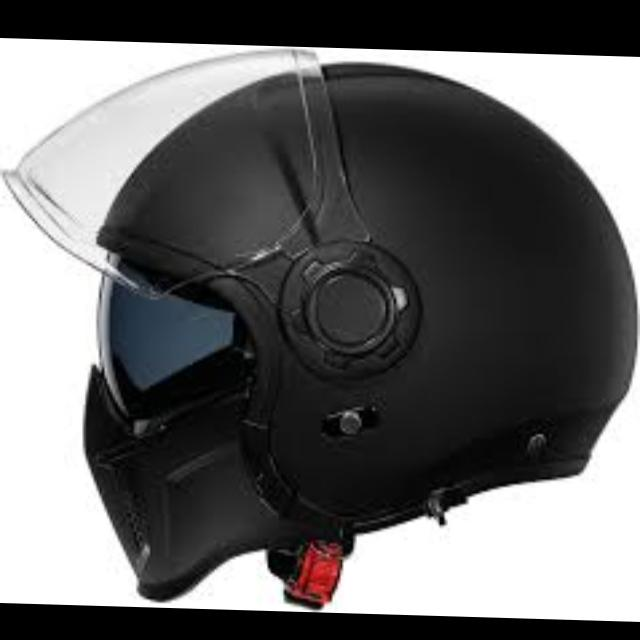motorcycle-helmets: (18, 54, 634, 601)
